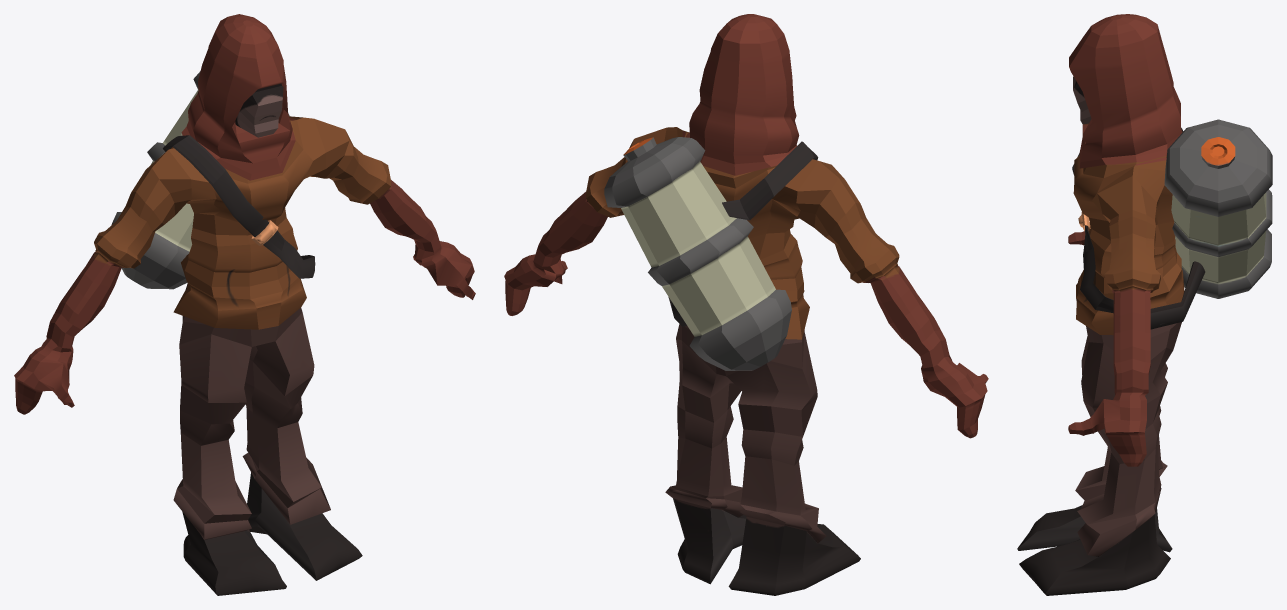
The model's file is MainCharacterModel.fbx.
3 renders of one model, left to right at view 1: azimuth 30°, elevation 25°; view 2: azimuth 150°, elevation 25°; view 3: azimuth 270°, elevation 25°, orthographic. The views are drawn at different scales.
Visible parts, largest first — view 1: pCylinder15; view 2: pCylinder15; view 3: pCylinder15.
Part boxes in pixels (x1=…): pCylinder15: x1=14, y1=14, x2=475, y2=595; pCylinder15: x1=504, y1=14, x2=988, y2=595; pCylinder15: x1=1017, y1=14, x2=1272, y2=595.
Bounding box in the file's own units: 25.36 × 28.4 × 12.13.
